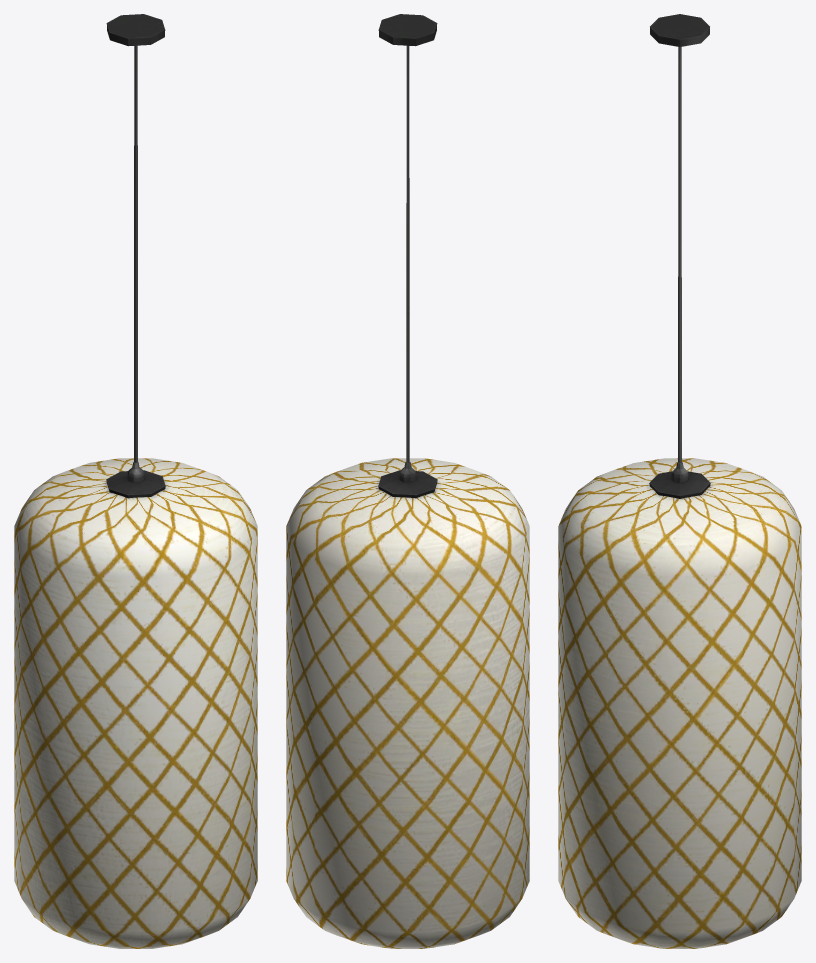
File: Lamp_Paper01.fbx
The picture shows the model from 3 angles, left to right: view 1: azimuth 30°, elevation 25°; view 2: azimuth 150°, elevation 25°; view 3: azimuth 270°, elevation 25°; orthographic projection.
Parts seen in each view (by area): view 1: Lamp_A; view 2: Lamp_A; view 3: Lamp_A.
Boxes of the visible parts, bbox=[...] form: Lamp_A: bbox=[14, 14, 257, 948]; Lamp_A: bbox=[286, 14, 529, 948]; Lamp_A: bbox=[558, 14, 801, 948].
Bounding box in the file's own units: 0.2644 × 1.09 × 0.2685.
Materials: 2 (2 with a texture image).
